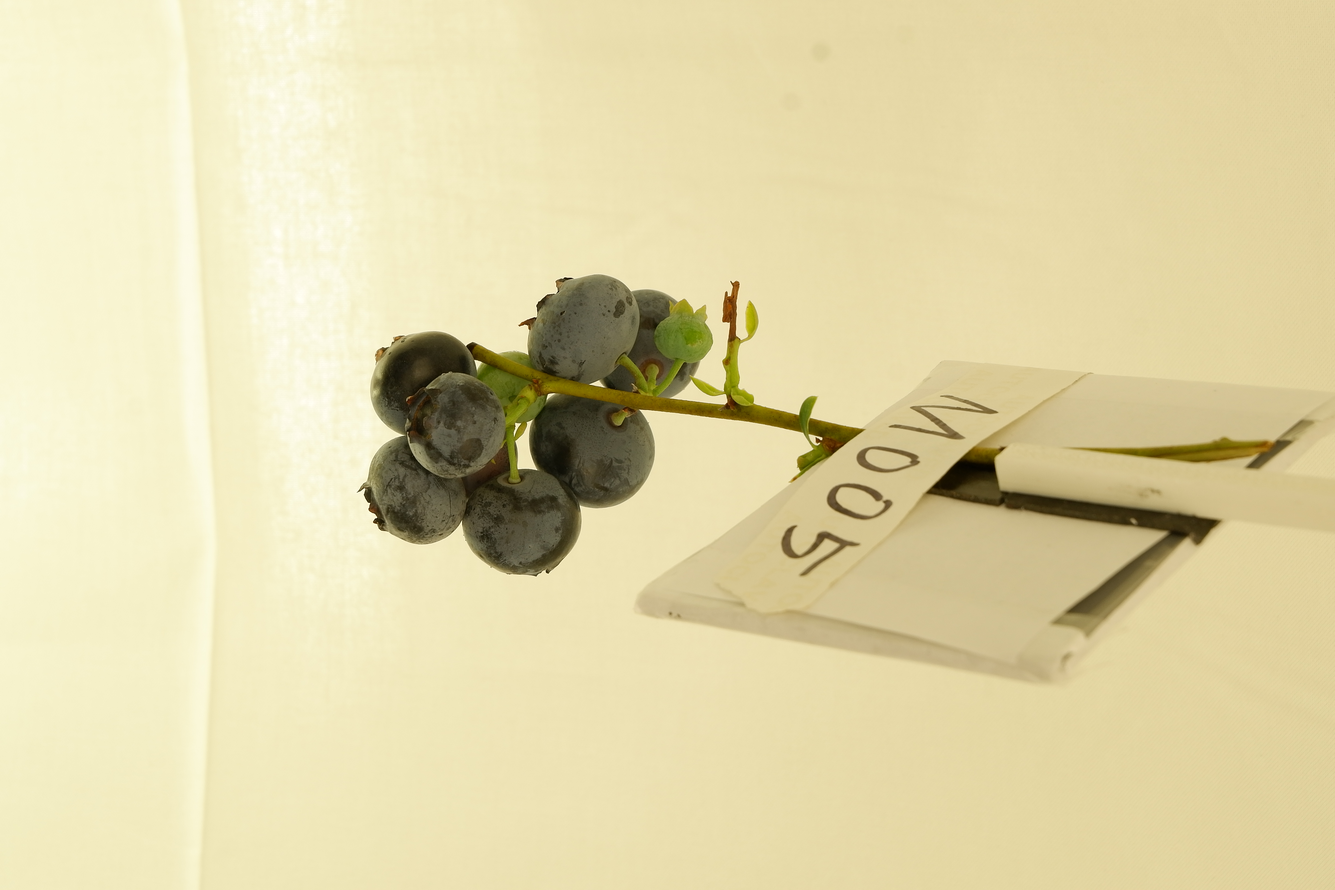Immature: (476, 350, 545, 425), (461, 427, 518, 502), (654, 298, 713, 365)
Mature: (530, 393, 654, 508), (464, 469, 582, 573), (527, 274, 640, 381), (363, 435, 465, 545), (371, 331, 478, 435), (598, 290, 700, 398), (405, 374, 506, 478)
